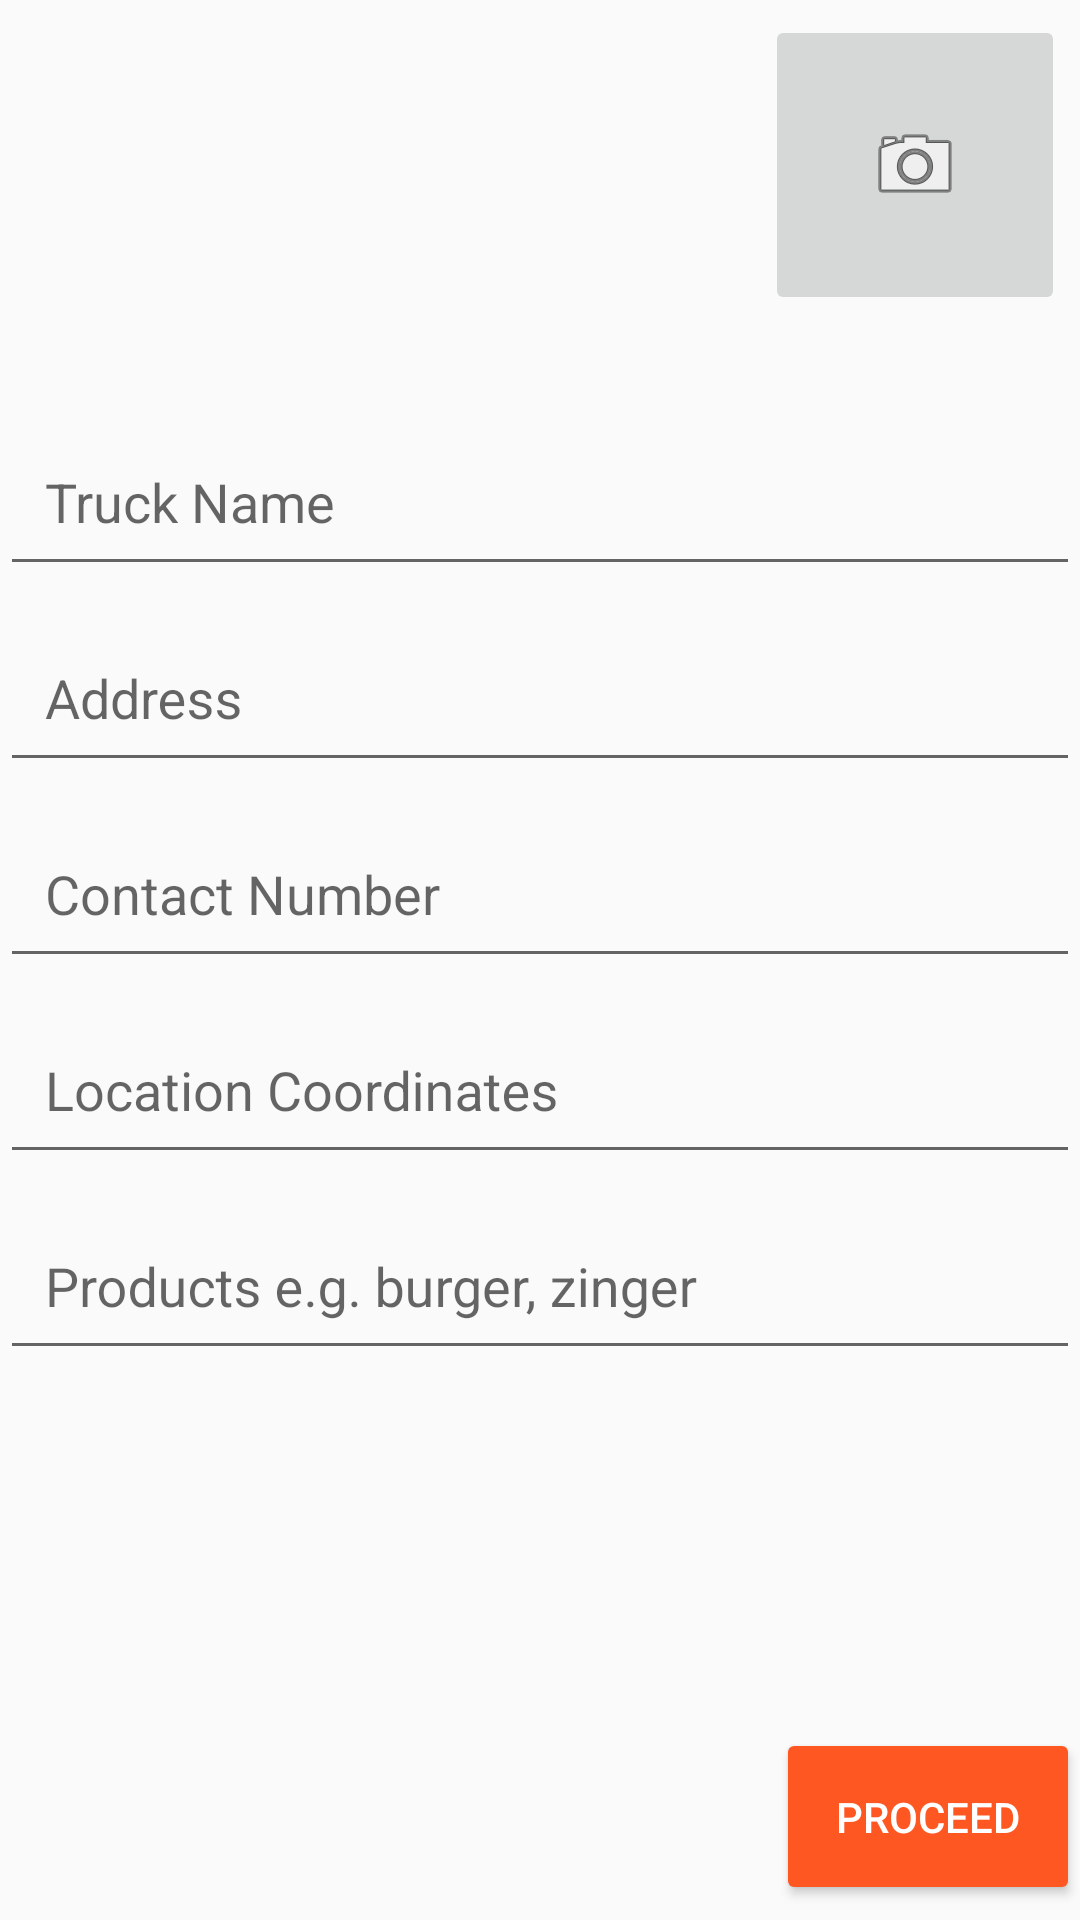

Icon click points for this 1080px x 1920px phone screenshot, format point (x, y):
camera: point (915, 165)
